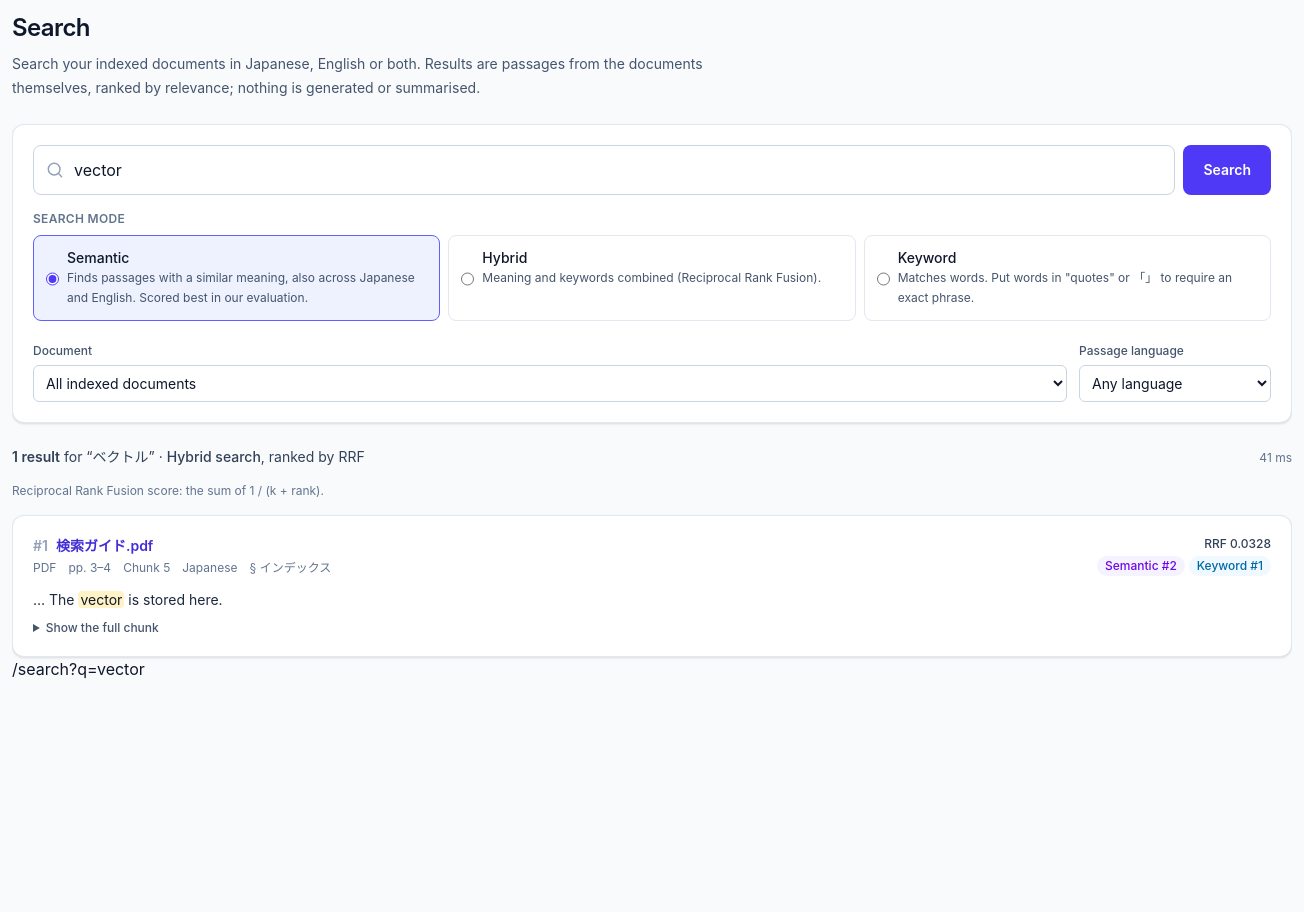
Test: SearchPage › shows the full chunk when the snippet is an excerpt
Step 1. Click the heading "Show the full chunk" → (102, 628), box x1=46 y1=620 x2=159 y2=635
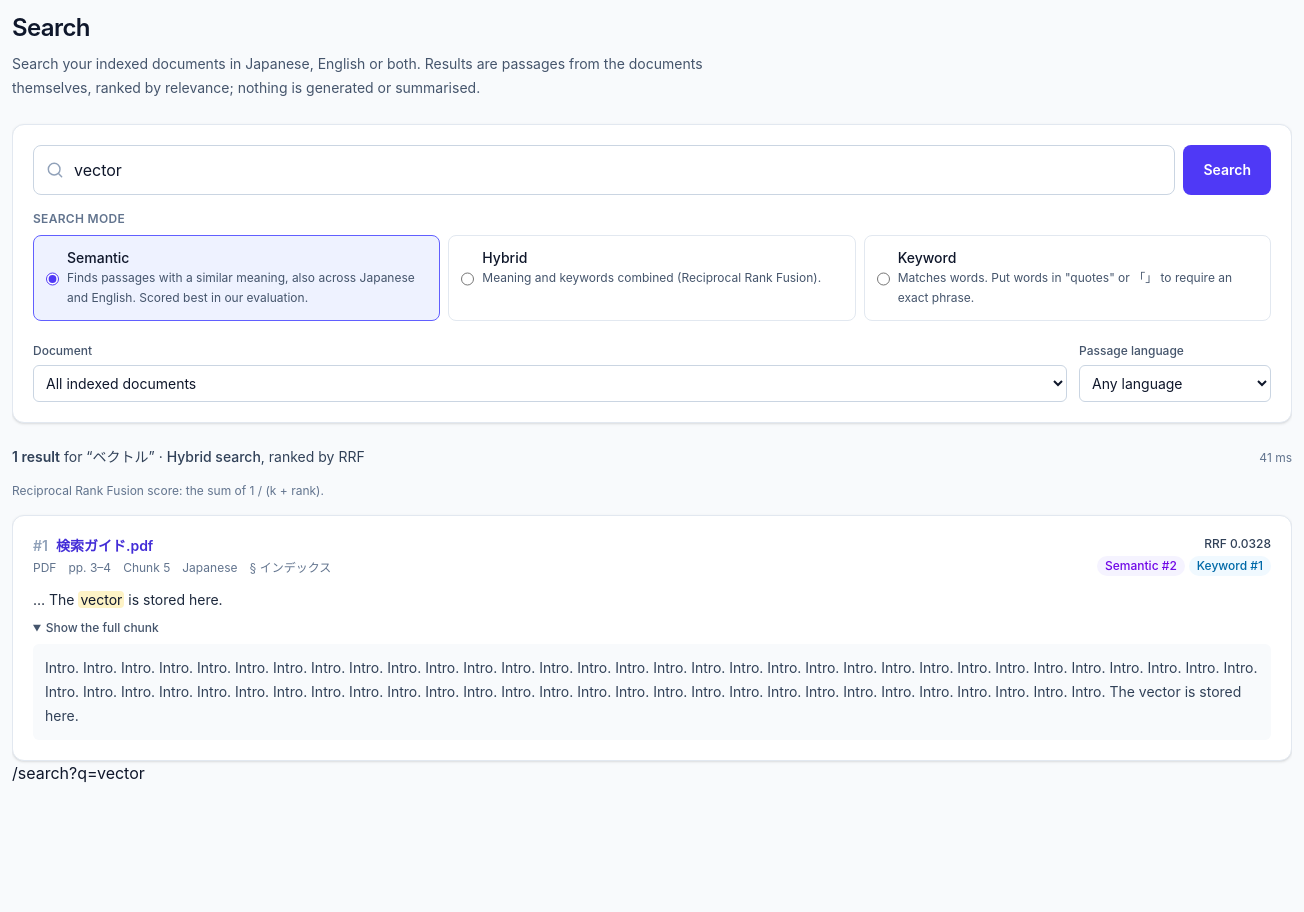
Now the text "Intro. Intro." is shown, box x1=45 y1=659 x2=1258 y2=724
